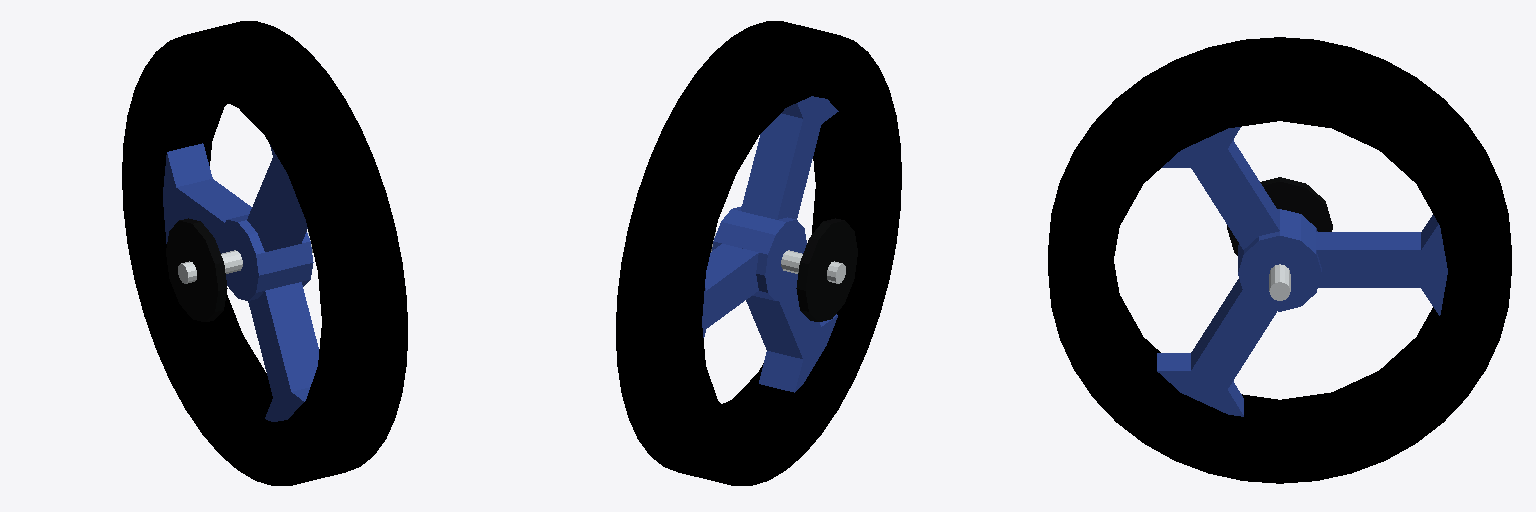
The model's file is r_wheel.obj.
3 views of the same model, side by side, from view 1: azimuth 30°, elevation 25°; view 2: azimuth 150°, elevation 25°; view 3: azimuth 270°, elevation 25° (orthographic).
Parts seen in each view (by area): view 1: obj_0.015; view 2: obj_0.015; view 3: obj_0.015.
Boxes of the visible parts, box(x1,y1,x2,y2) form: obj_0.015: box(122, 21, 407, 485); obj_0.015: box(616, 21, 901, 485); obj_0.015: box(1048, 37, 1511, 483).
Size of the model in its own units: 40 by 110 by 110.